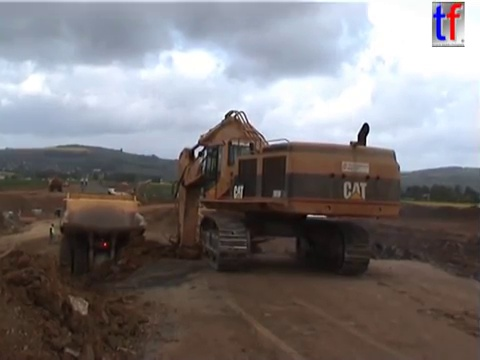excavator: (152, 107, 403, 292)
truck: (54, 191, 147, 279), (83, 187, 117, 199), (47, 176, 64, 193)
worker: (47, 221, 57, 244)
